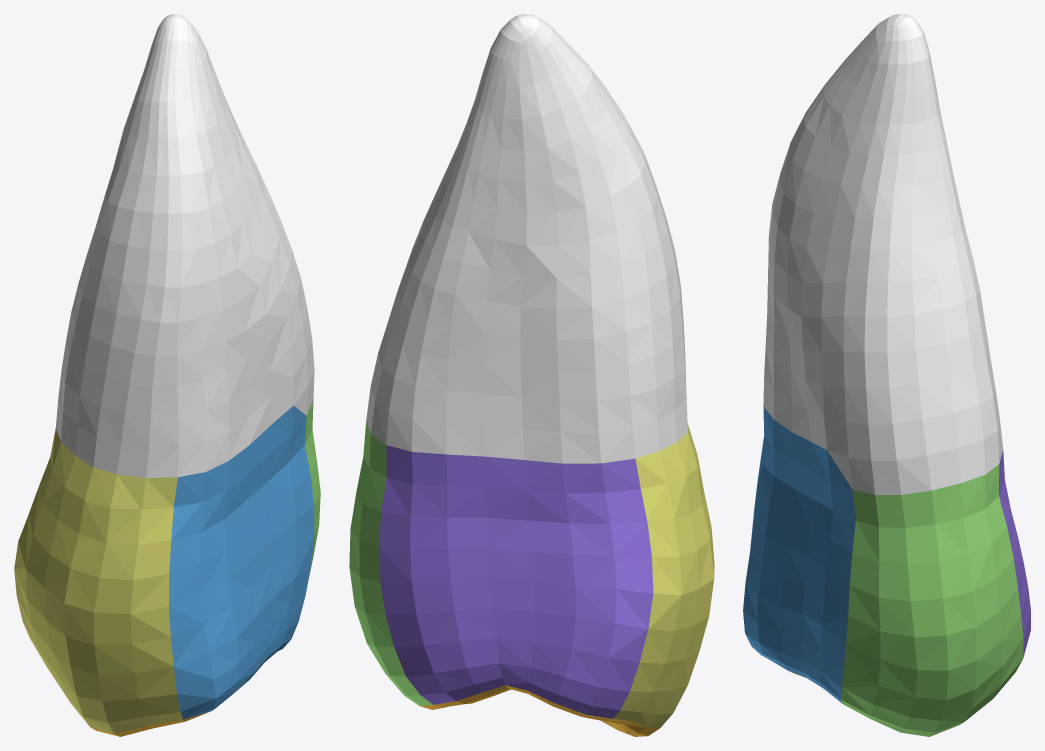
Rendered from tooth_15_annotated.glb.
The picture shows the model from 3 angles, left to right: view 1: azimuth 30°, elevation 25°; view 2: azimuth 150°, elevation 25°; view 3: azimuth 270°, elevation 25°; orthographic projection. The views are drawn at different scales.
Parts seen in each view (by area): view 1: FDI_15; view 2: FDI_15; view 3: FDI_15.
Boxes of the visible parts, box(x1,y1,x2,y2) form: FDI_15: box(14, 14, 320, 736); FDI_15: box(349, 14, 714, 736); FDI_15: box(743, 14, 1030, 736).
Size of the model in its own units: 0.00814 by 0.018 by 0.00674.
